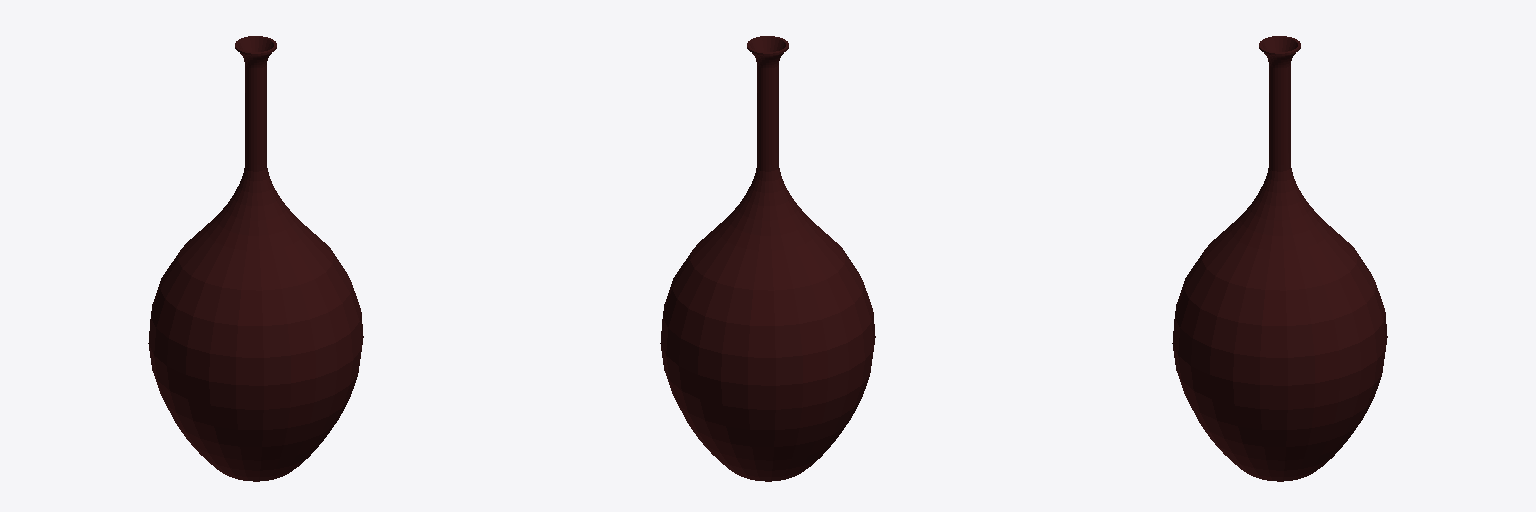
The model's file is vase3.obj.
The picture shows the model from 3 angles: view 1: azimuth 30°, elevation 25°; view 2: azimuth 150°, elevation 25°; view 3: azimuth 270°, elevation 25°; orthographic projection.
Visible parts, largest first — view 1: Mesh_vase2_Mesh.002; view 2: Mesh_vase2_Mesh.002; view 3: Mesh_vase2_Mesh.002.
Boxes of the visible parts, x1,y1,x2,y2 form: Mesh_vase2_Mesh.002: [148, 36, 363, 481]; Mesh_vase2_Mesh.002: [660, 36, 875, 481]; Mesh_vase2_Mesh.002: [1172, 36, 1387, 481].
Bounding box in the file's own units: 11.74 × 25.43 × 11.74.